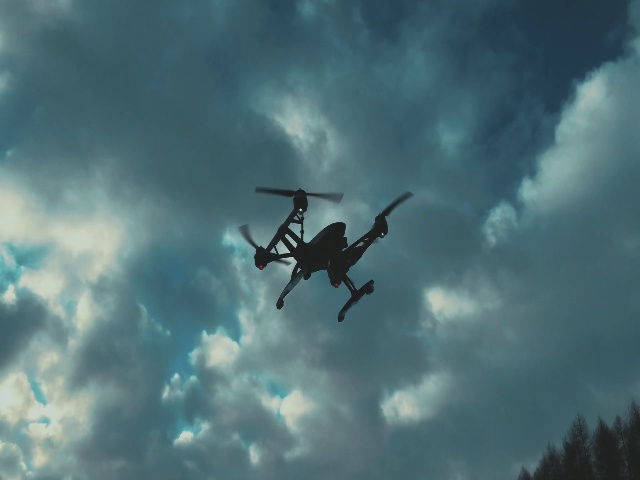drone: (239, 182, 415, 324)
